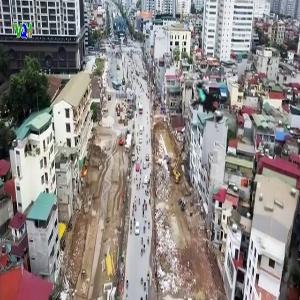drone: (161, 50, 265, 154)
